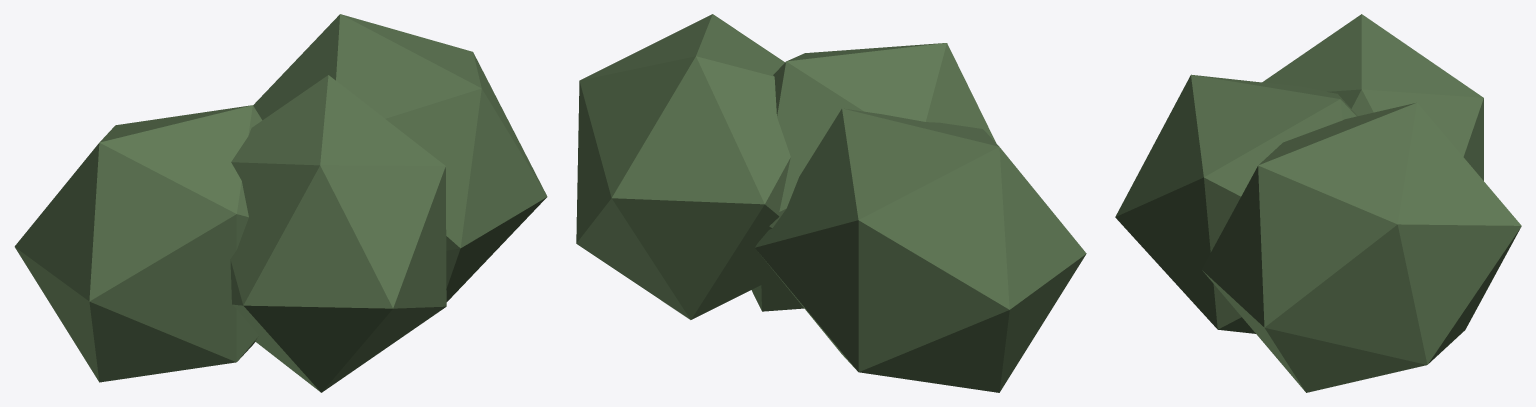
3 renders of one model, left to right at view 1: azimuth 30°, elevation 25°; view 2: azimuth 150°, elevation 25°; view 3: azimuth 270°, elevation 25°, orthographic. The views are drawn at different scales.
Visible parts, largest first — view 1: V06_海岸圆灌丛; view 2: V06_海岸圆灌丛; view 3: V06_海岸圆灌丛.
Boxes of the visible parts, box(x1,y1,x2,y2) form: V06_海岸圆灌丛: box(14, 14, 547, 392); V06_海岸圆灌丛: box(576, 14, 1086, 392); V06_海岸圆灌丛: box(1115, 14, 1521, 392).
Size of the model in its own units: 0.7965 by 0.4814 by 0.6229.
